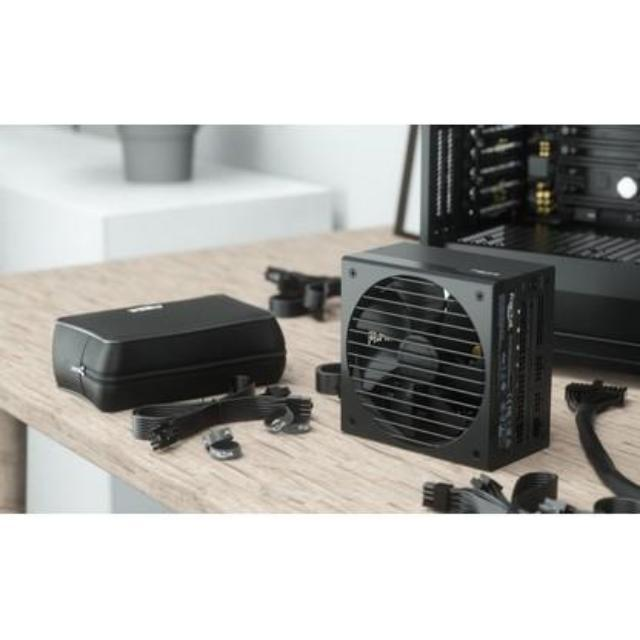PSU: (328, 238, 563, 474)
